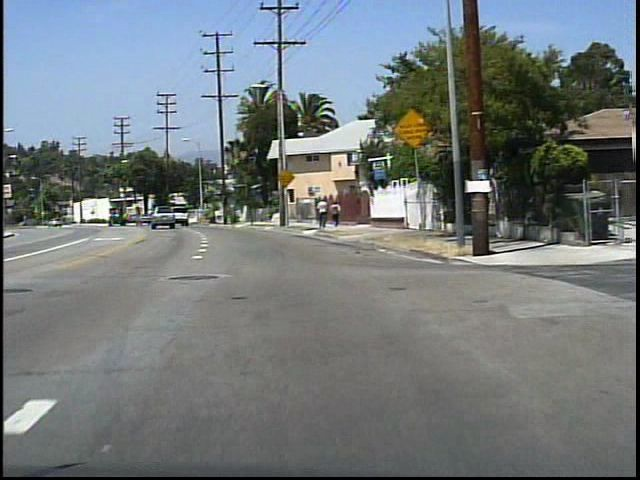person: (314, 196, 329, 231), (328, 199, 342, 229)
